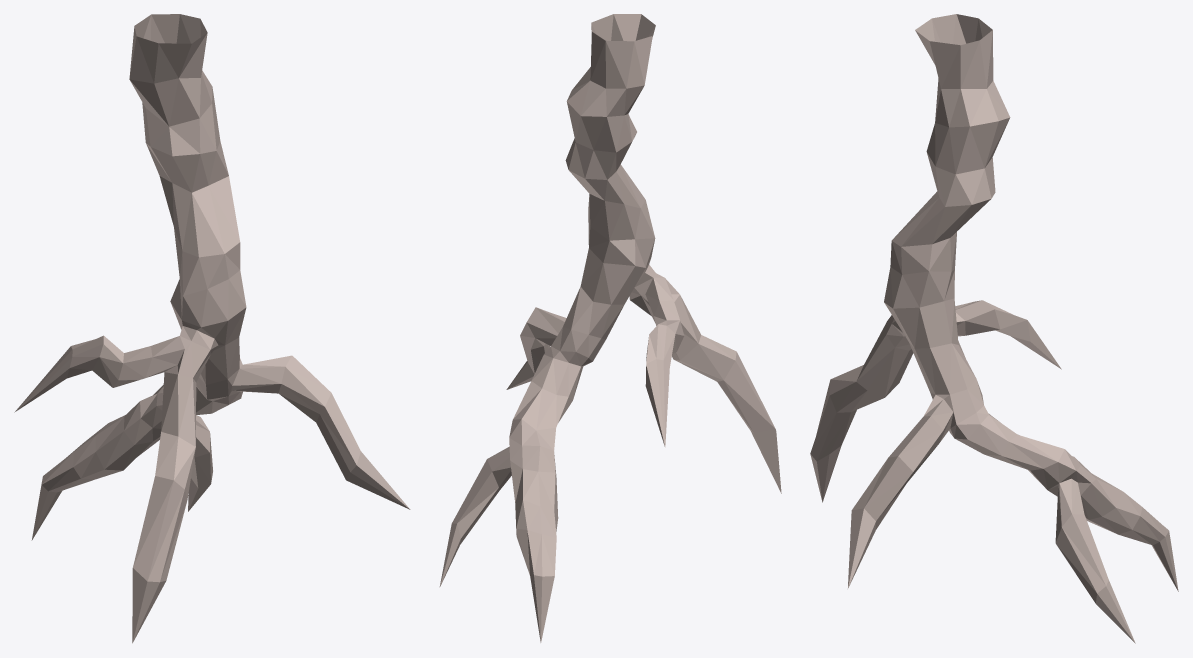
The model's file is TreeNaked.fbx.
The picture shows the model from 3 angles, left to right: view 1: azimuth 30°, elevation 25°; view 2: azimuth 150°, elevation 25°; view 3: azimuth 270°, elevation 25°; orthographic projection. The views are drawn at different scales.
Parts seen in each view (by area): view 1: pCylinder8; view 2: pCylinder8; view 3: pCylinder8.
Boxes of the visible parts, x1,y1,x2,y2 form: pCylinder8: [14, 14, 410, 643]; pCylinder8: [439, 14, 781, 642]; pCylinder8: [810, 14, 1178, 643].
Size of the model in its own units: 42.56 by 82.42 by 47.95.
